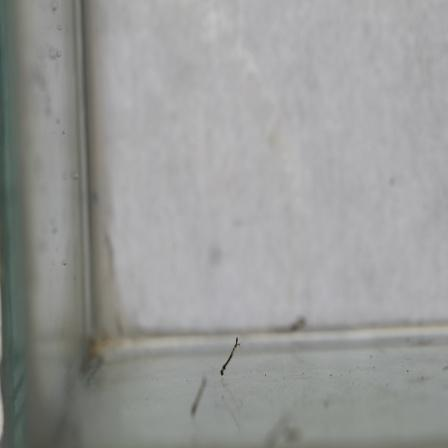Jentik-Nyamuk: (214, 333, 244, 378)
